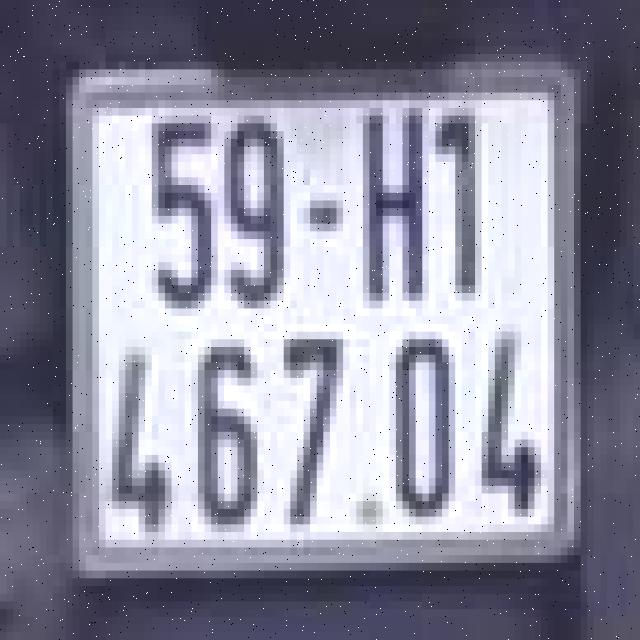0: (386, 328, 465, 528)
1: (435, 104, 495, 312)
4: (475, 324, 548, 532), (109, 339, 175, 540)
5: (142, 115, 221, 308)
6: (188, 336, 267, 544)
7: (277, 324, 356, 532)
9: (224, 108, 297, 308)
H: (353, 92, 432, 308)
